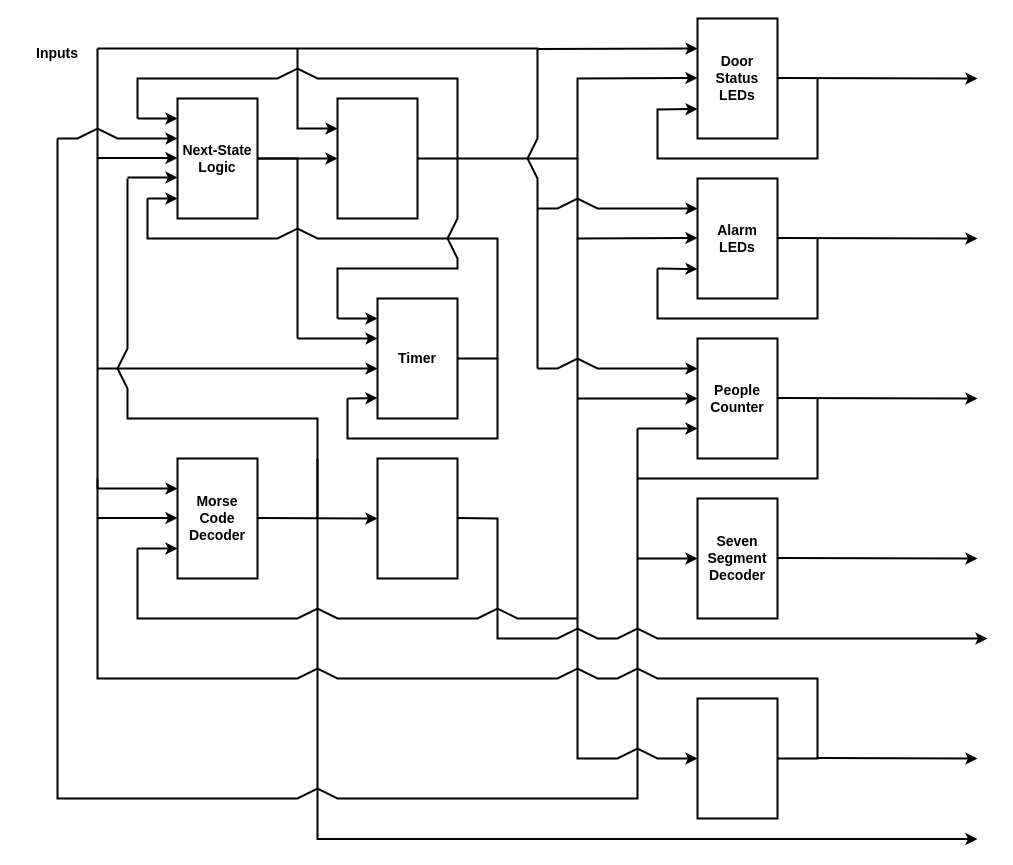
The diagram is 1013 pixels wide and 865 high, and some of its shapes have lost their labels. The shapes that lost their labels are listed below. From the top down, each one's centre as x and y in pixels, then its label:
At [377,158]: "State Register".
At [417,518]: "Seven Segment Decoder (morse)".
At [737,758]: "Vault Occupied".
